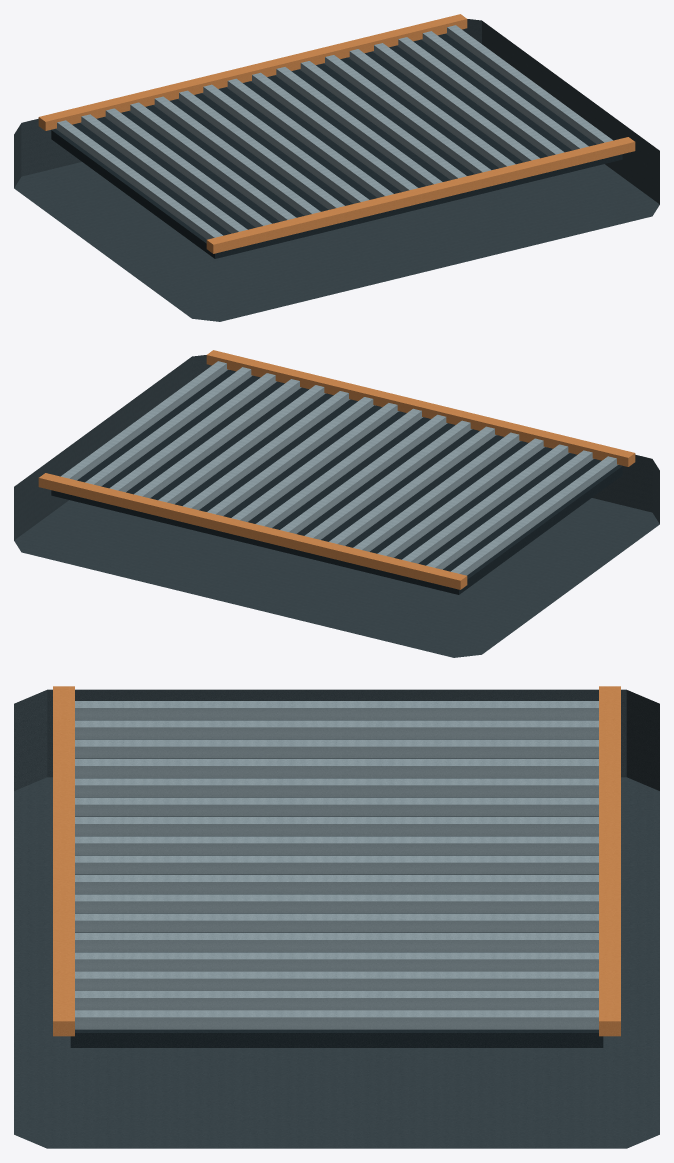
The model's file is dust_grate.glb.
3 views of the same model, one above another, from view 1: azimuth 30°, elevation 25°; view 2: azimuth 150°, elevation 25°; view 3: azimuth 270°, elevation 25° (orthographic). The views are drawn at different scales.
Visible parts, largest first — view 1: Dust_Containment_Tray__graphite, Grate_Bars__alloy, Grate_Recess__carbon, Edge_Visibility__amber; view 2: Dust_Containment_Tray__graphite, Grate_Bars__alloy, Grate_Recess__carbon, Edge_Visibility__amber; view 3: Grate_Bars__alloy, Dust_Containment_Tray__graphite, Grate_Recess__carbon, Edge_Visibility__amber.
Boxes of the visible parts, x1,y1,x2,y2 form: Dust_Containment_Tray__graphite: [14, 19, 659, 321]; Grate_Bars__alloy: [55, 25, 612, 239]; Grate_Recess__carbon: [51, 34, 622, 258]; Edge_Visibility__amber: [38, 14, 635, 253]; Dust_Containment_Tray__graphite: [14, 355, 659, 657]; Grate_Bars__alloy: [61, 361, 618, 575]; Grate_Recess__carbon: [51, 370, 622, 594]; Edge_Visibility__amber: [38, 350, 635, 589]; Grate_Bars__alloy: [75, 701, 598, 1029]; Dust_Containment_Tray__graphite: [14, 689, 659, 1148]; Grate_Recess__carbon: [70, 720, 603, 1047]; Edge_Visibility__amber: [53, 686, 620, 1036].
Size of the model in its own units: 1.32 by 0.181 by 0.97.
4 materials, 4 textured.
